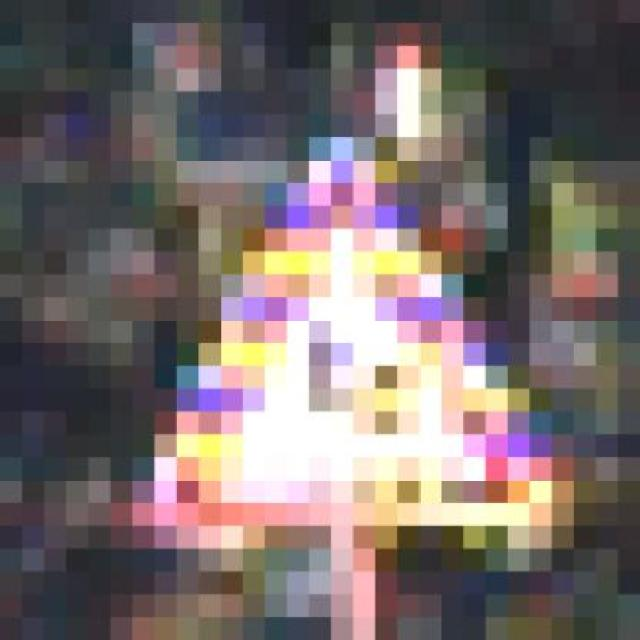Left Zig Zag Traffic: (154, 69, 574, 548)
